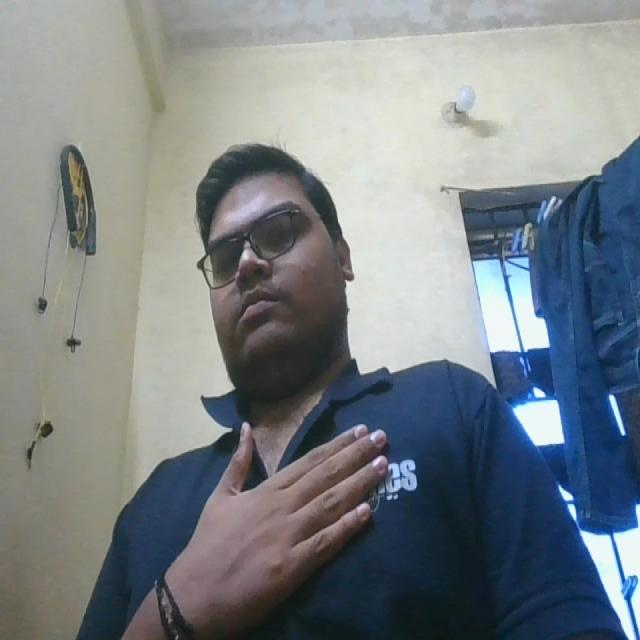Please: (192, 412, 408, 608)
